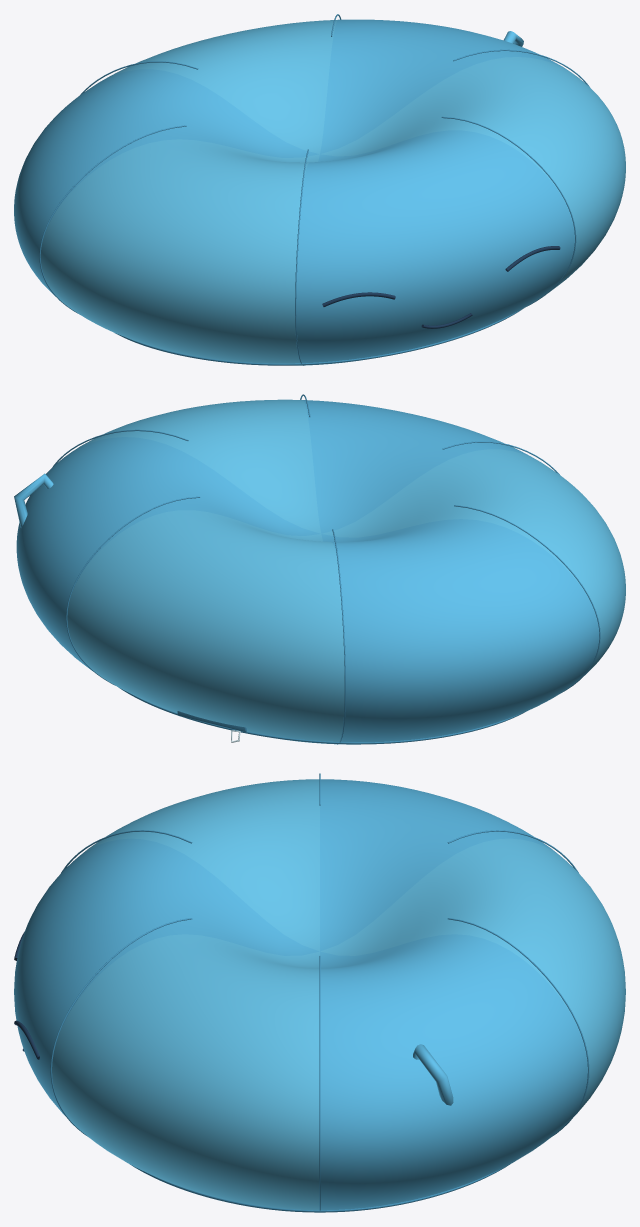
The model's file is slime_beanbag.glb.
3 renders of one model, top to bottom at view 1: azimuth 30°, elevation 25°; view 2: azimuth 150°, elevation 25°; view 3: azimuth 270°, elevation 25°, orthographic. The views are drawn at different scales.
Visible parts, largest first — view 1: Slime_Beanbag_Shell, Beanbag_Lower_Piping, Beanbag_Panel_Seam_3, Beanbag_Panel_Seam_5; view 2: Slime_Beanbag_Shell, Beanbag_Lower_Piping, Carry_Loop, Beanbag_Panel_Seam_3, Beanbag_Panel_Seam_1; view 3: Slime_Beanbag_Shell, Beanbag_Lower_Piping, Carry_Loop, Beanbag_Panel_Seam_1, Beanbag_Panel_Seam_5.
Boxes of the visible parts, x1,y1,x2,y2 form: Slime_Beanbag_Shell: [14, 19, 625, 365]; Beanbag_Lower_Piping: [115, 308, 523, 365]; Beanbag_Panel_Seam_3: [39, 125, 186, 313]; Beanbag_Panel_Seam_5: [441, 116, 576, 307]; Slime_Beanbag_Shell: [16, 399, 625, 744]; Beanbag_Lower_Piping: [118, 687, 524, 744]; Carry_Loop: [14, 473, 53, 527]; Beanbag_Panel_Seam_3: [454, 505, 600, 692]; Beanbag_Panel_Seam_1: [66, 496, 200, 685]; Slime_Beanbag_Shell: [14, 779, 625, 1210]; Beanbag_Lower_Piping: [130, 1164, 509, 1212]; Carry_Loop: [413, 1044, 453, 1105]; Beanbag_Panel_Seam_1: [447, 918, 589, 1136]; Beanbag_Panel_Seam_5: [50, 918, 192, 1136].
Size of the model in its own units: 1.05 by 0.3898 by 0.8548.
